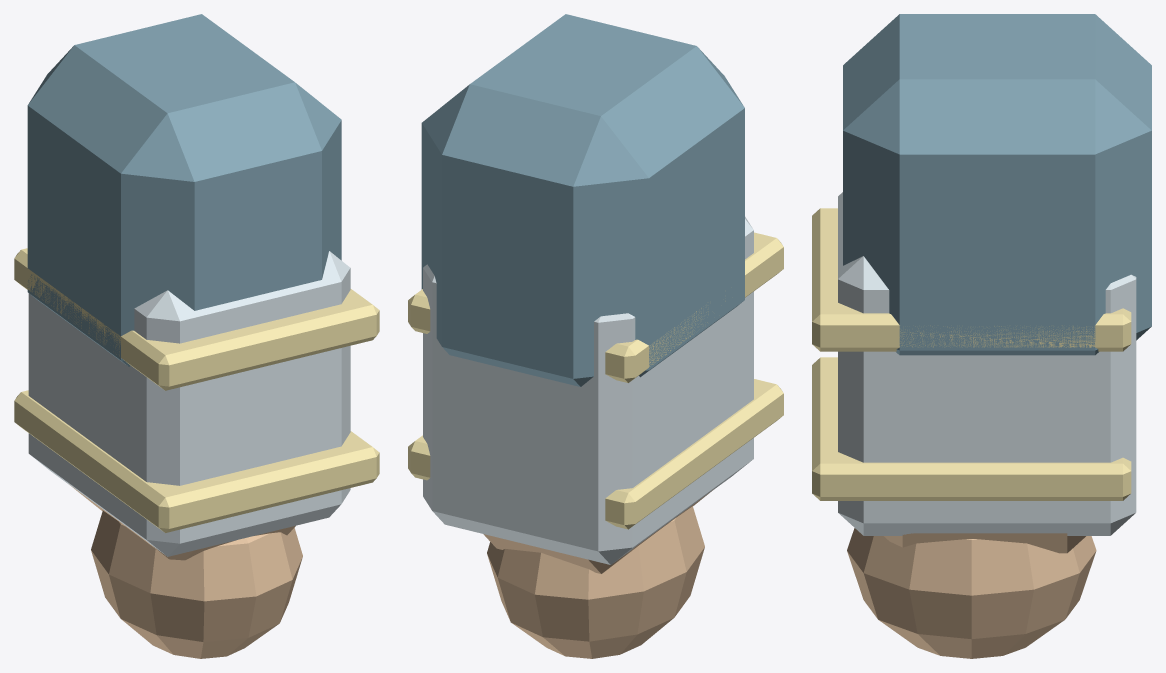
File: Storm_Peasant_RightArm.fbx
3 views of the same model, side by side, from view 1: azimuth 30°, elevation 25°; view 2: azimuth 150°, elevation 25°; view 3: azimuth 270°, elevation 25° (orthographic). The views are drawn at different scales.
Visible parts, largest first — view 1: Storm_Peasant_RightArm; view 2: Storm_Peasant_RightArm; view 3: Storm_Peasant_RightArm.
Part boxes in pixels (x1,y1,x2,y2): Storm_Peasant_RightArm: [14, 14, 379, 658]; Storm_Peasant_RightArm: [408, 14, 783, 658]; Storm_Peasant_RightArm: [812, 14, 1151, 658].
Bounding box in the file's own units: 26 × 64.62 × 33.
